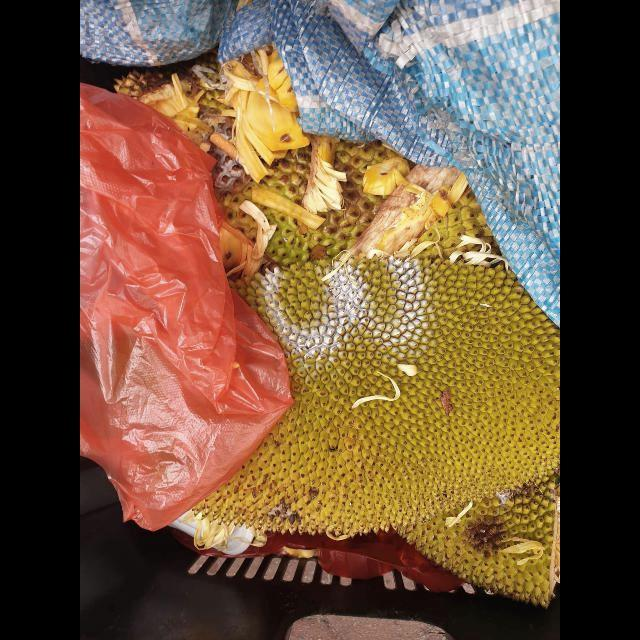plastic_bag: (80, 84, 296, 534)
